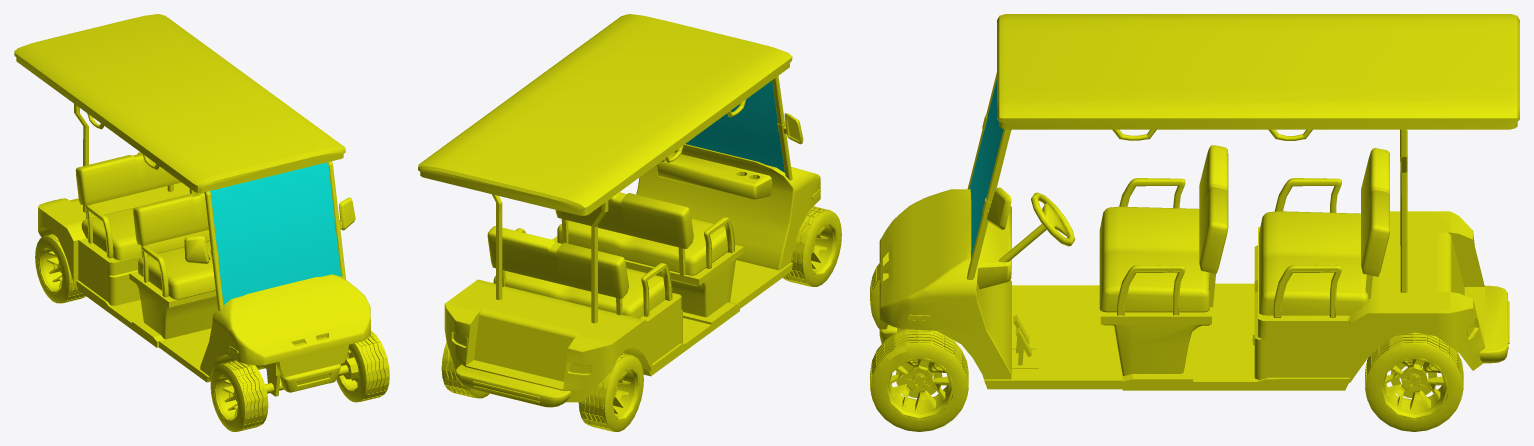
File: golf-cart.fbx
The picture shows the model from 3 angles, left to right: view 1: azimuth 30°, elevation 25°; view 2: azimuth 150°, elevation 25°; view 3: azimuth 270°, elevation 25°; orthographic projection. The views are drawn at different scales.
Visible parts, largest first — view 1: Cube, Window, WheelFrontRight, WheelFrontLeft, WheelBackRight; view 2: Cube, Window, WheelBackRight, WheelFrontRight, WheelBackLeft; view 3: Cube, WheelFrontLeft, WheelBackLeft, Window, SteeringWheel.
Part boxes in pixels (x1,y1,x2,y2): Cube: [14, 14, 384, 396]; Window: [210, 162, 341, 304]; WheelFrontRight: [210, 360, 268, 431]; WheelFrontLeft: [336, 331, 389, 402]; WheelBackRight: [35, 233, 85, 303]; Cube: [418, 14, 820, 407]; Window: [685, 80, 784, 172]; WheelBackRight: [578, 353, 643, 431]; WheelFrontRight: [783, 206, 841, 286]; WheelBackLeft: [441, 342, 489, 398]; Cube: [879, 14, 1519, 390]; WheelFrontLeft: [870, 329, 968, 431]; WheelBackLeft: [1365, 332, 1463, 431]; Window: [969, 80, 1003, 258]; SteeringWheel: [1031, 192, 1075, 246].
Bounding box in the file's own units: 82.76 × 107 × 195.
